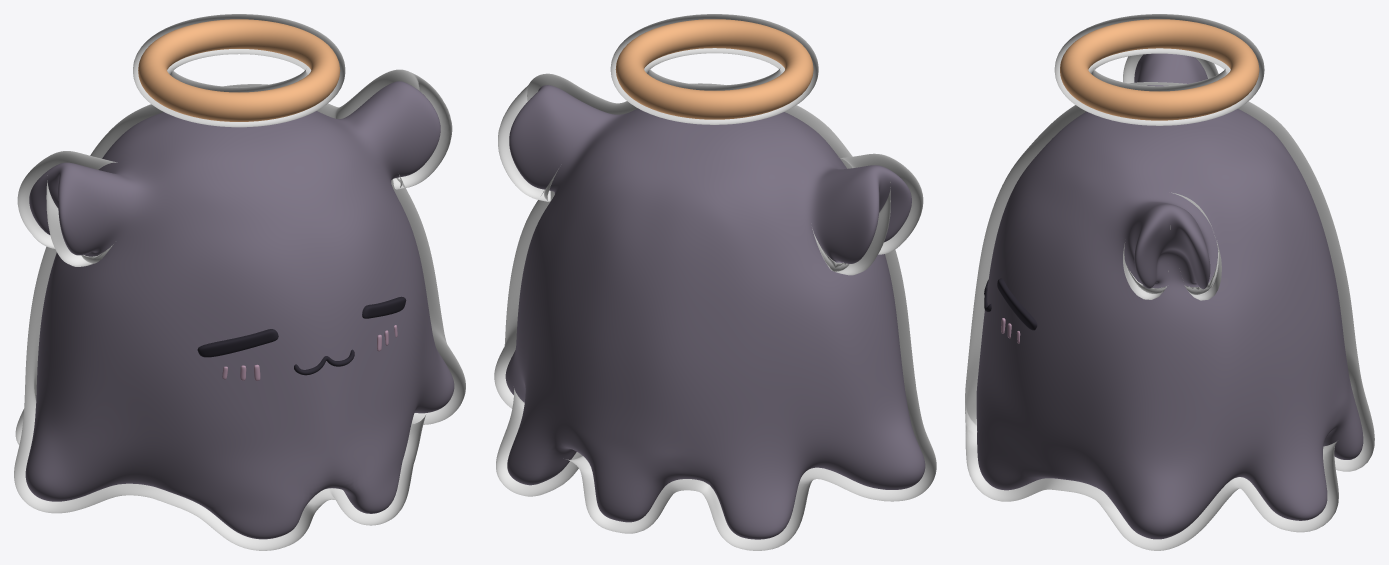
3 views of the same model, side by side, from view 1: azimuth 30°, elevation 25°; view 2: azimuth 150°, elevation 25°; view 3: azimuth 270°, elevation 25° (orthographic). The views are drawn at different scales.
Visible parts, largest first — view 1: Body, Torus, Eyes; view 2: Body, Torus; view 3: Body, Torus, Eyes.
Boxes of the visible parts, x1,y1,x2,y2 form: Body: [14, 69, 465, 550]; Torus: [133, 14, 345, 127]; Eyes: [197, 296, 406, 357]; Body: [494, 73, 936, 550]; Torus: [610, 14, 818, 124]; Body: [965, 53, 1374, 550]; Torus: [1054, 14, 1264, 125]; Eyes: [997, 278, 1037, 330].
Bounding box in the file's own units: 4.37 × 4 × 3.56.
6 materials, 4 textured.
